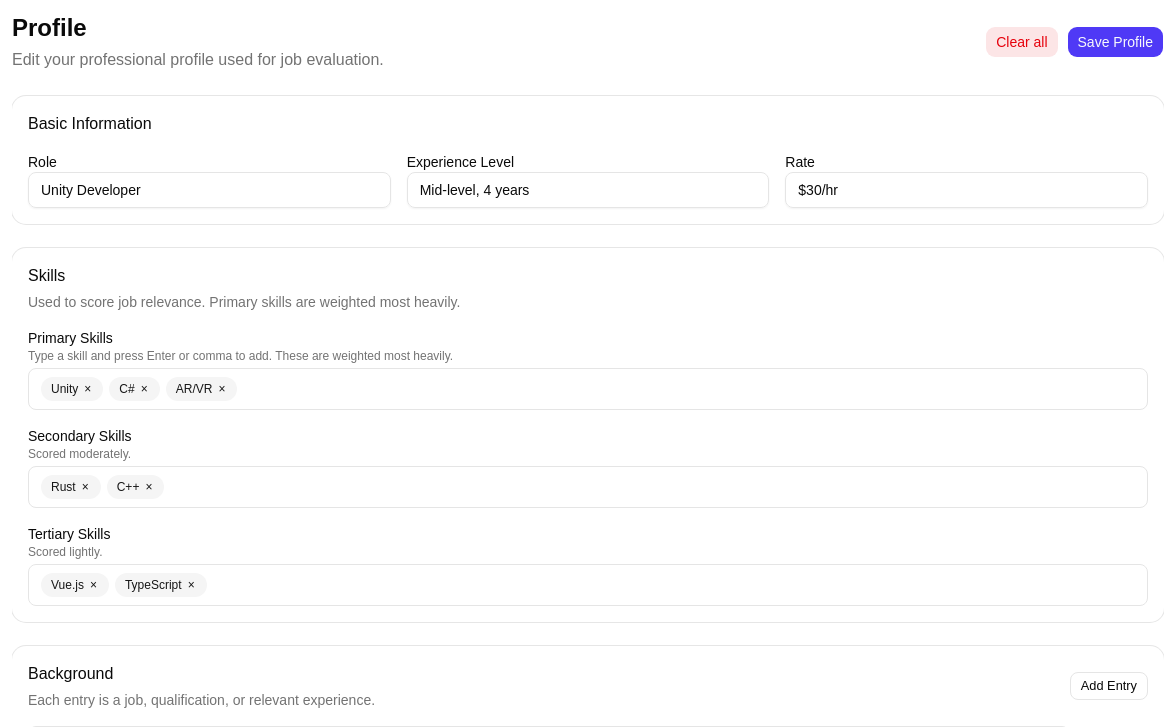
Test: ProfilePage › shows error toast on API failure
Expected: the field showing "Unity Developer" below "Role" is shown, [28, 172, 391, 208]
Click the button "Save Profile".
click(1115, 42)  # box [1066, 26, 1164, 58]
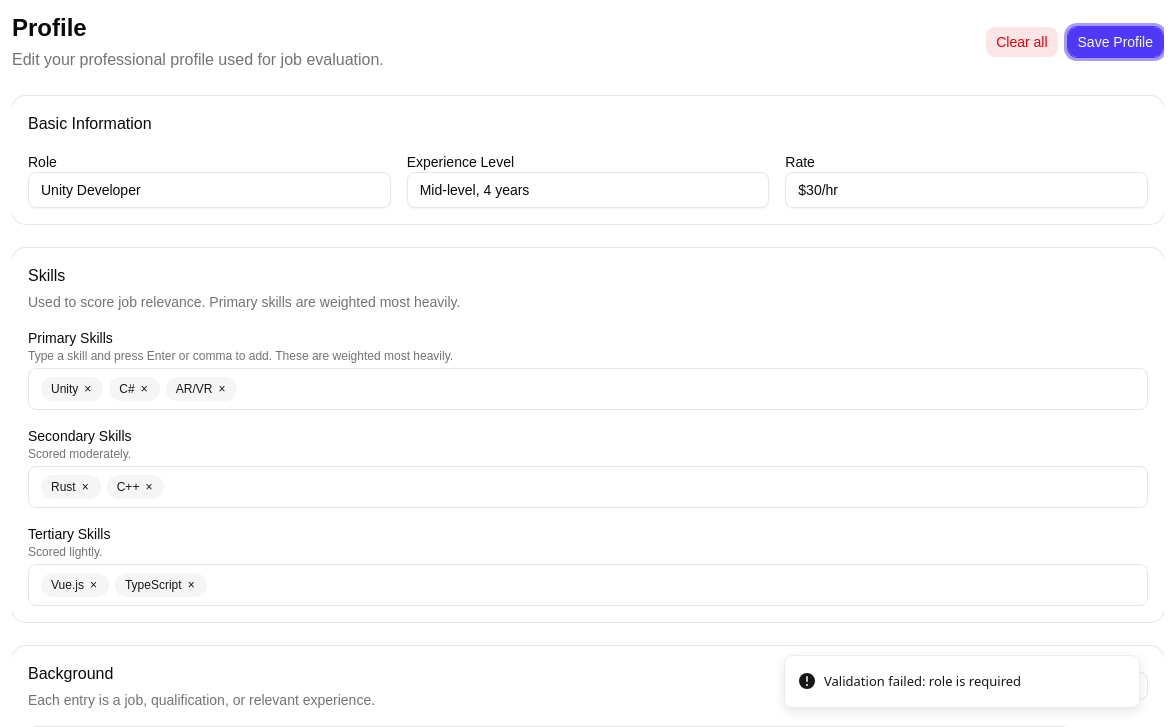
Expected: the text "Validation failed: role is required" is shown, [824, 672, 1021, 691]
